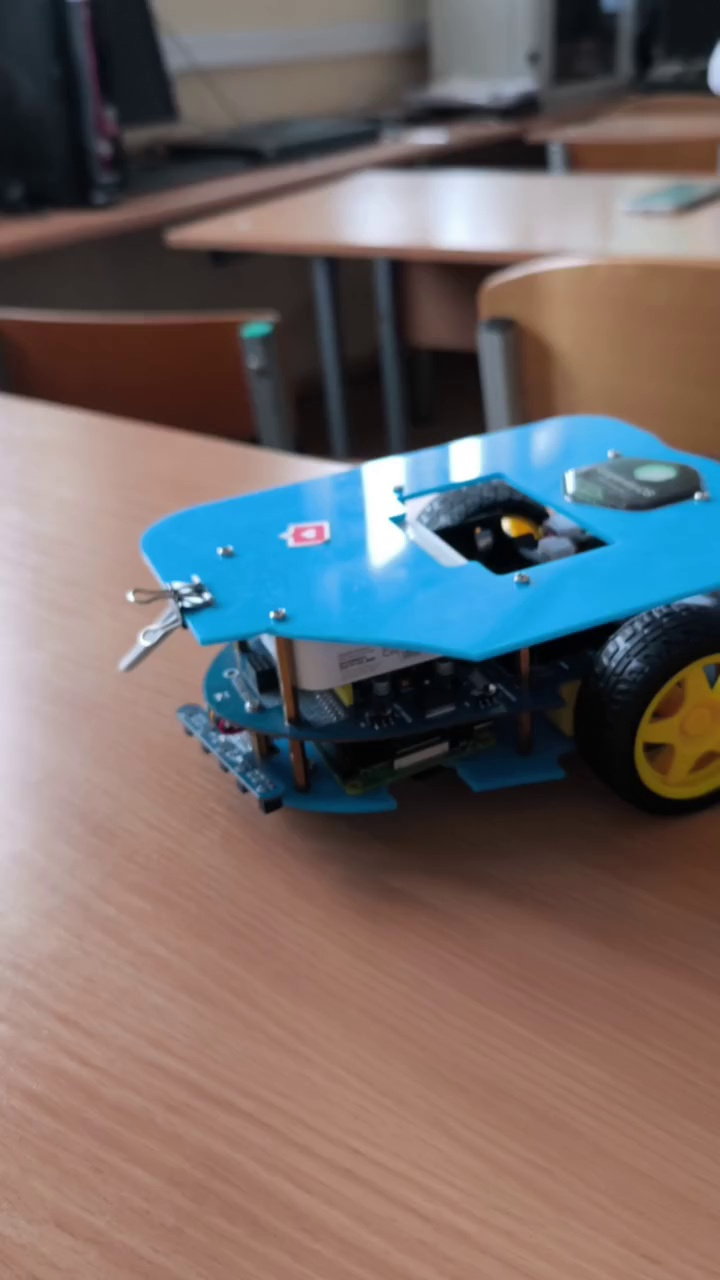robot: (116, 410, 720, 819)
